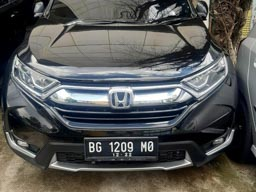plat: (87, 140, 156, 151)
